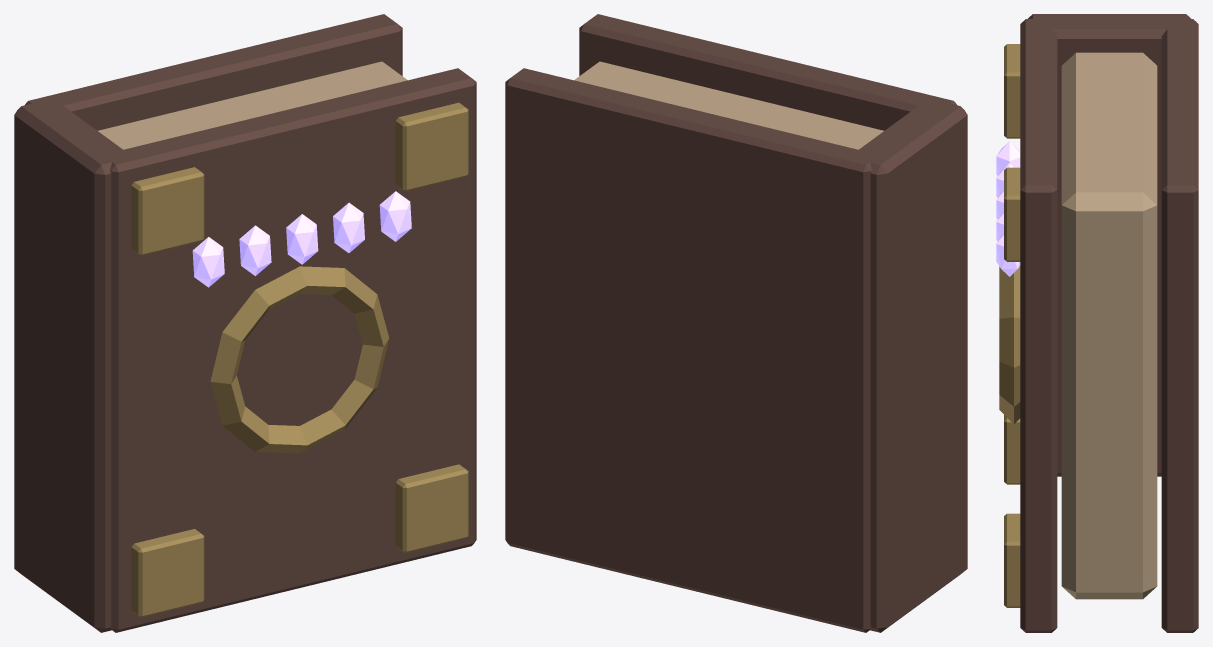
Rendered from gear_spellbook.glb.
3 views of the same model, side by side, from view 1: azimuth 30°, elevation 25°; view 2: azimuth 150°, elevation 25°; view 3: azimuth 270°, elevation 25° (orthographic). The views are drawn at different scales.
Parts seen in each view (by area): view 1: Tooled book cover, Book spine, Tooled book cover.001, Book sun emblem, Bound parchment, Brass book corner, Brass book corner.001, Brass book corner.002, Brass book corner.003, Cover constellation.001, Cover constellation.004, Cover constellation (+2 smaller); view 2: Tooled book cover.001, Book spine, Tooled book cover, Bound parchment; view 3: Bound parchment, Tooled book cover.001, Tooled book cover, Book spine, Book sun emblem, Brass book corner.001, Brass book corner.002, Brass book corner.003, Brass book corner, Cover constellation, Cover constellation.004.
Part boxes in pixels (box(x1,y1,x2,y2)): Tooled book cover: box(110, 68, 476, 632); Book spine: box(14, 98, 132, 632); Tooled book cover.001: box(25, 14, 402, 130); Book sun emblem: box(210, 266, 389, 453); Bound parchment: box(98, 61, 407, 149); Brass book corner: box(131, 529, 204, 617); Brass book corner.001: box(131, 167, 204, 255); Brass book corner.002: box(395, 464, 468, 553); Brass book corner.003: box(395, 102, 468, 191); Cover constellation.001: box(239, 225, 271, 275); Cover constellation.004: box(379, 191, 411, 241); Cover constellation: box(192, 237, 224, 287); Tooled book cover.001: box(505, 68, 871, 632); Book spine: box(849, 98, 967, 632); Tooled book cover: box(579, 14, 956, 130); Bound parchment: box(574, 61, 883, 149); Bound parchment: box(1061, 52, 1157, 599); Tooled book cover.001: box(1161, 19, 1198, 632); Tooled book cover: box(1020, 19, 1057, 632); Book spine: box(1028, 14, 1190, 476); Book sun emblem: box(999, 266, 1020, 423); Brass book corner.001: box(1004, 44, 1020, 138); Brass book corner.002: box(1004, 513, 1020, 607); Brass book corner.003: box(1004, 167, 1020, 261); Brass book corner: box(1004, 415, 1020, 484); Cover constellation: box(996, 141, 1020, 175); Cover constellation.004: box(996, 234, 1020, 276).
Bounding box in the file's own units: 0.3725 × 0.44 × 0.1804.
